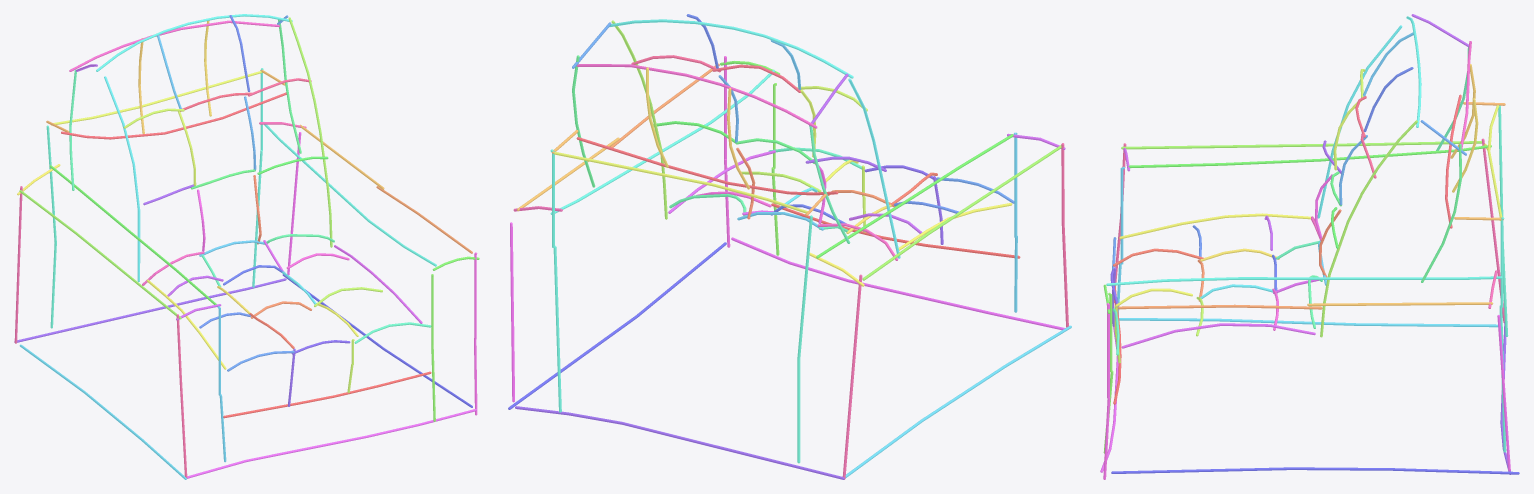
File: author2_sofa.gltf
The picture shows the model from 3 angles, left to right: view 1: azimuth 30°, elevation 25°; view 2: azimuth 150°, elevation 25°; view 3: azimuth 270°, elevation 25°; orthographic projection. The views are drawn at different scales.
Size of the model in its own units: 0.5511 by 0.5769 by 0.6142.
